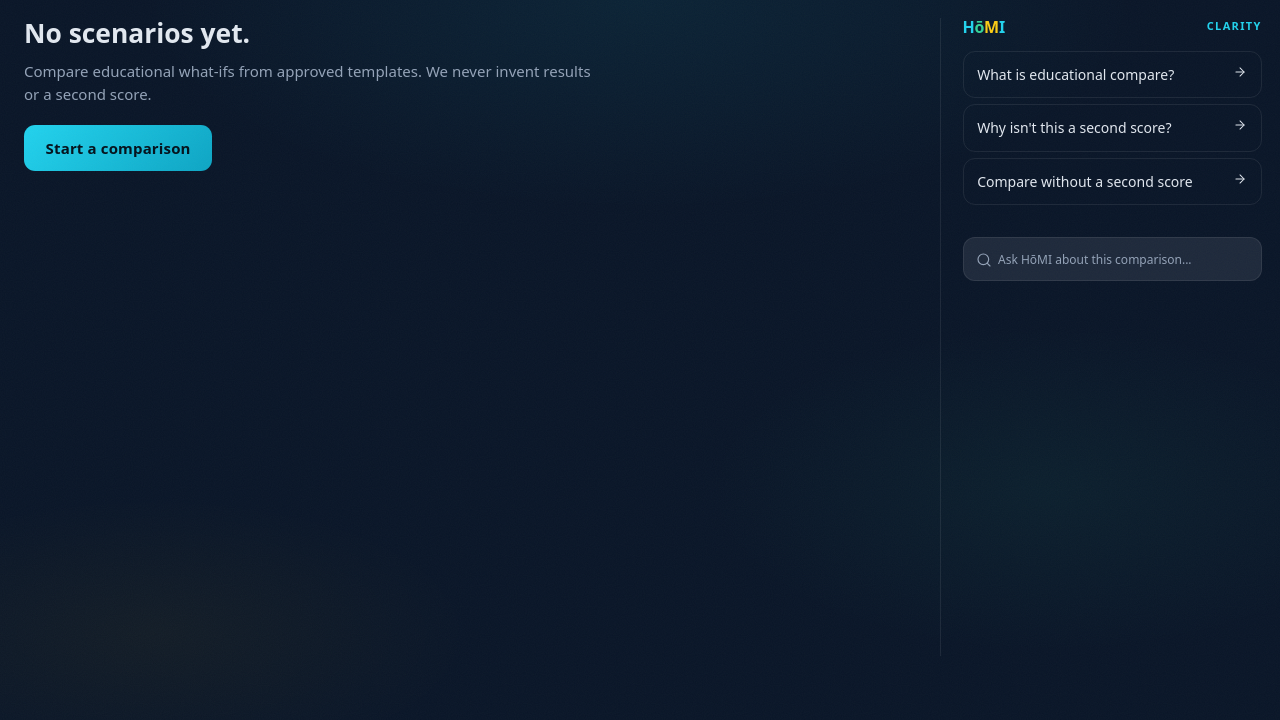
Test: Compare v4 workspace in Shell v4 › Start a comparison reveals approved templates without inventing $
Click the button "Start a comparison": (118, 148) [24,126,212,171]
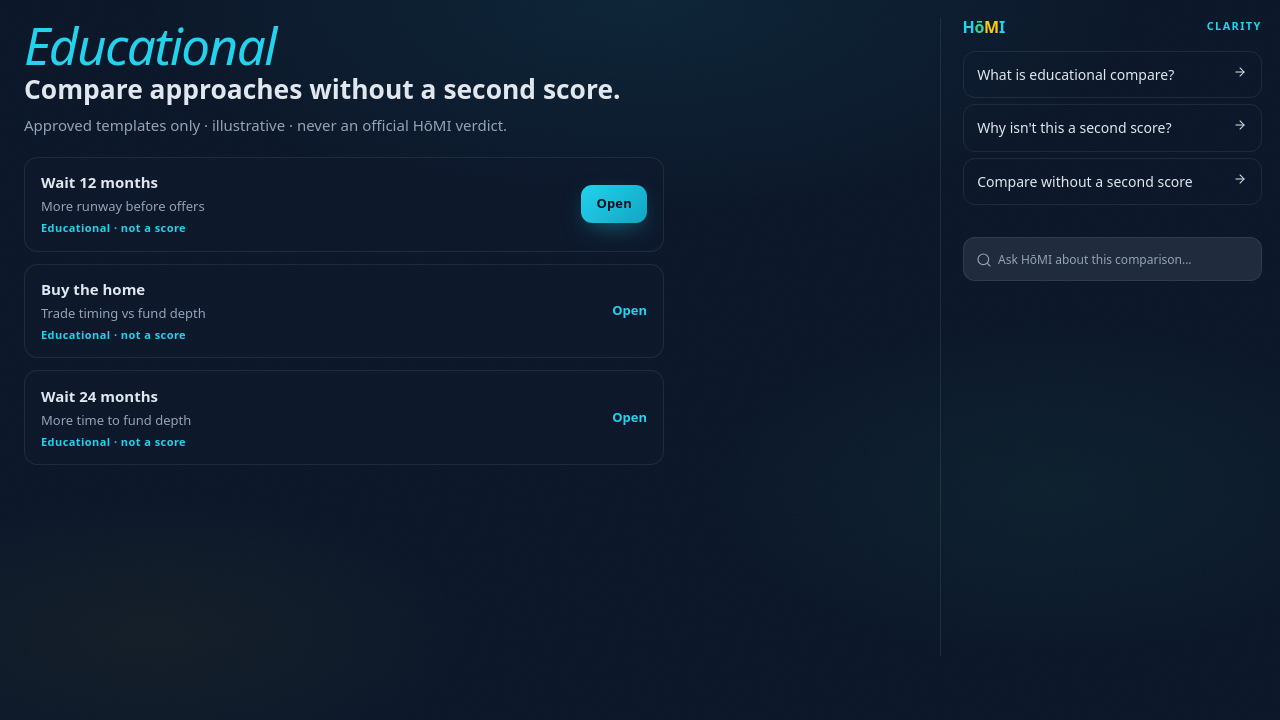
Expected: the element named "Compare" is shown, [24,10,664,465]
Now the list item that starts with "Wait 12 months" is shown, box [24,157,664,252]
Now the text "Educational · not a score" is shown, box [41,220,186,236]
